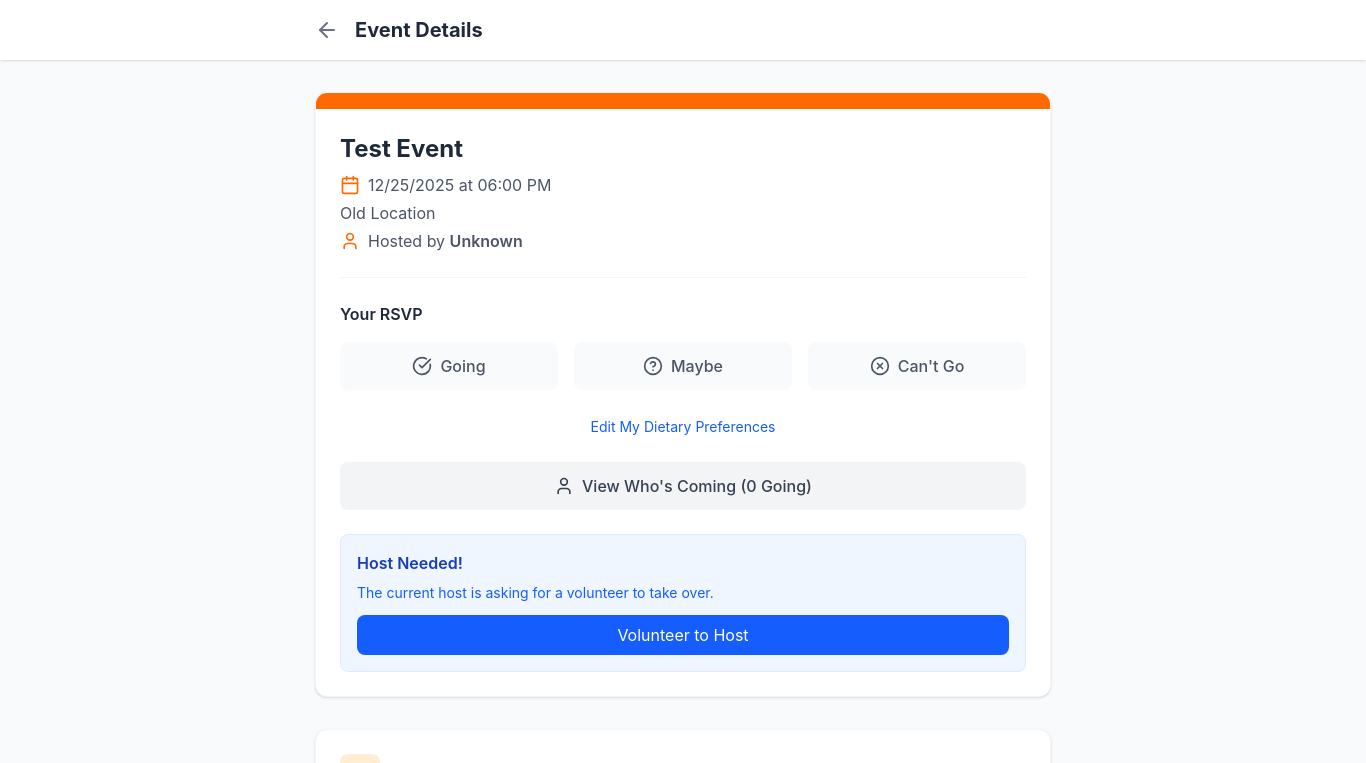
Test: EventDetails Component › pre-fills location with user household address when accepting host swap
Expected: the heading "Test Event" is shown, [340,134,463,163]
Click the button "Volunteer to Host" at x=683, y=635, box [357,615,1009,655]
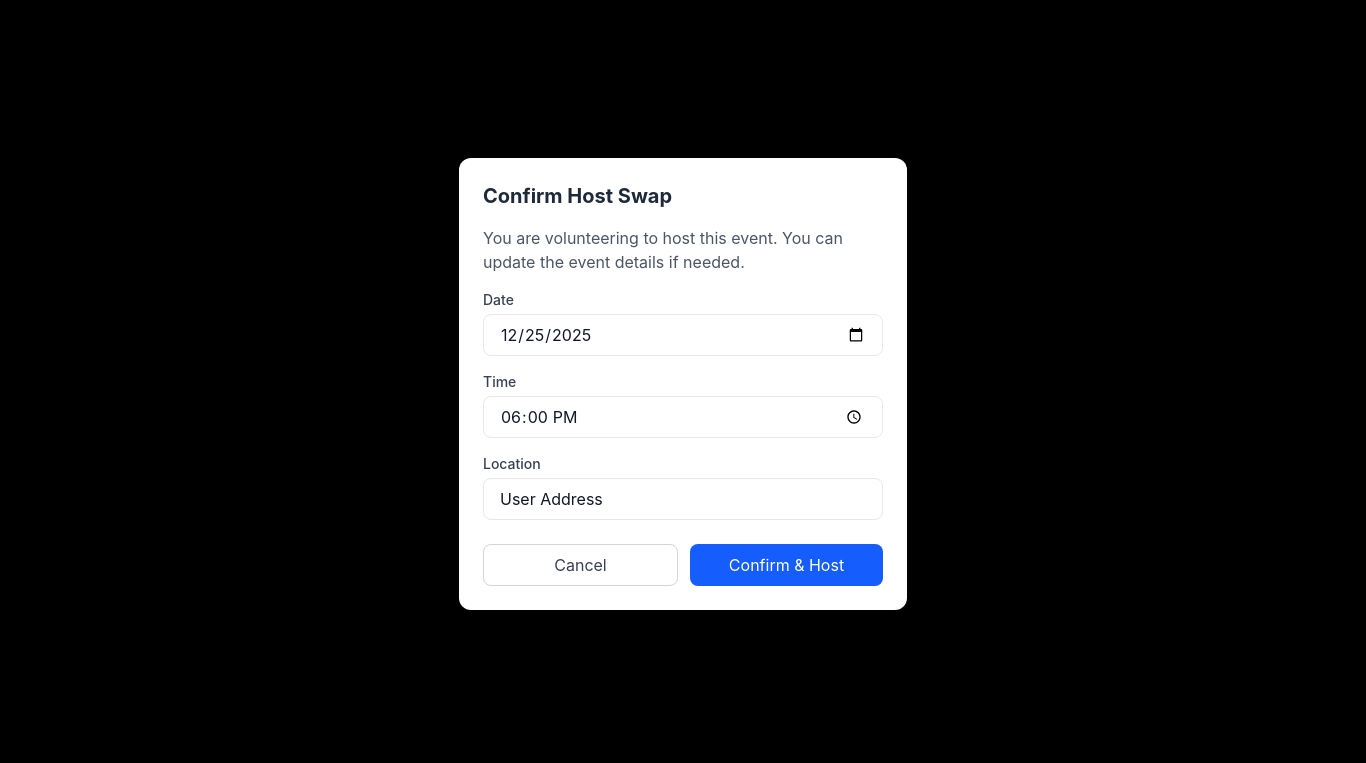
Result: the field showing "User Address" is shown at [483,478,883,520]
